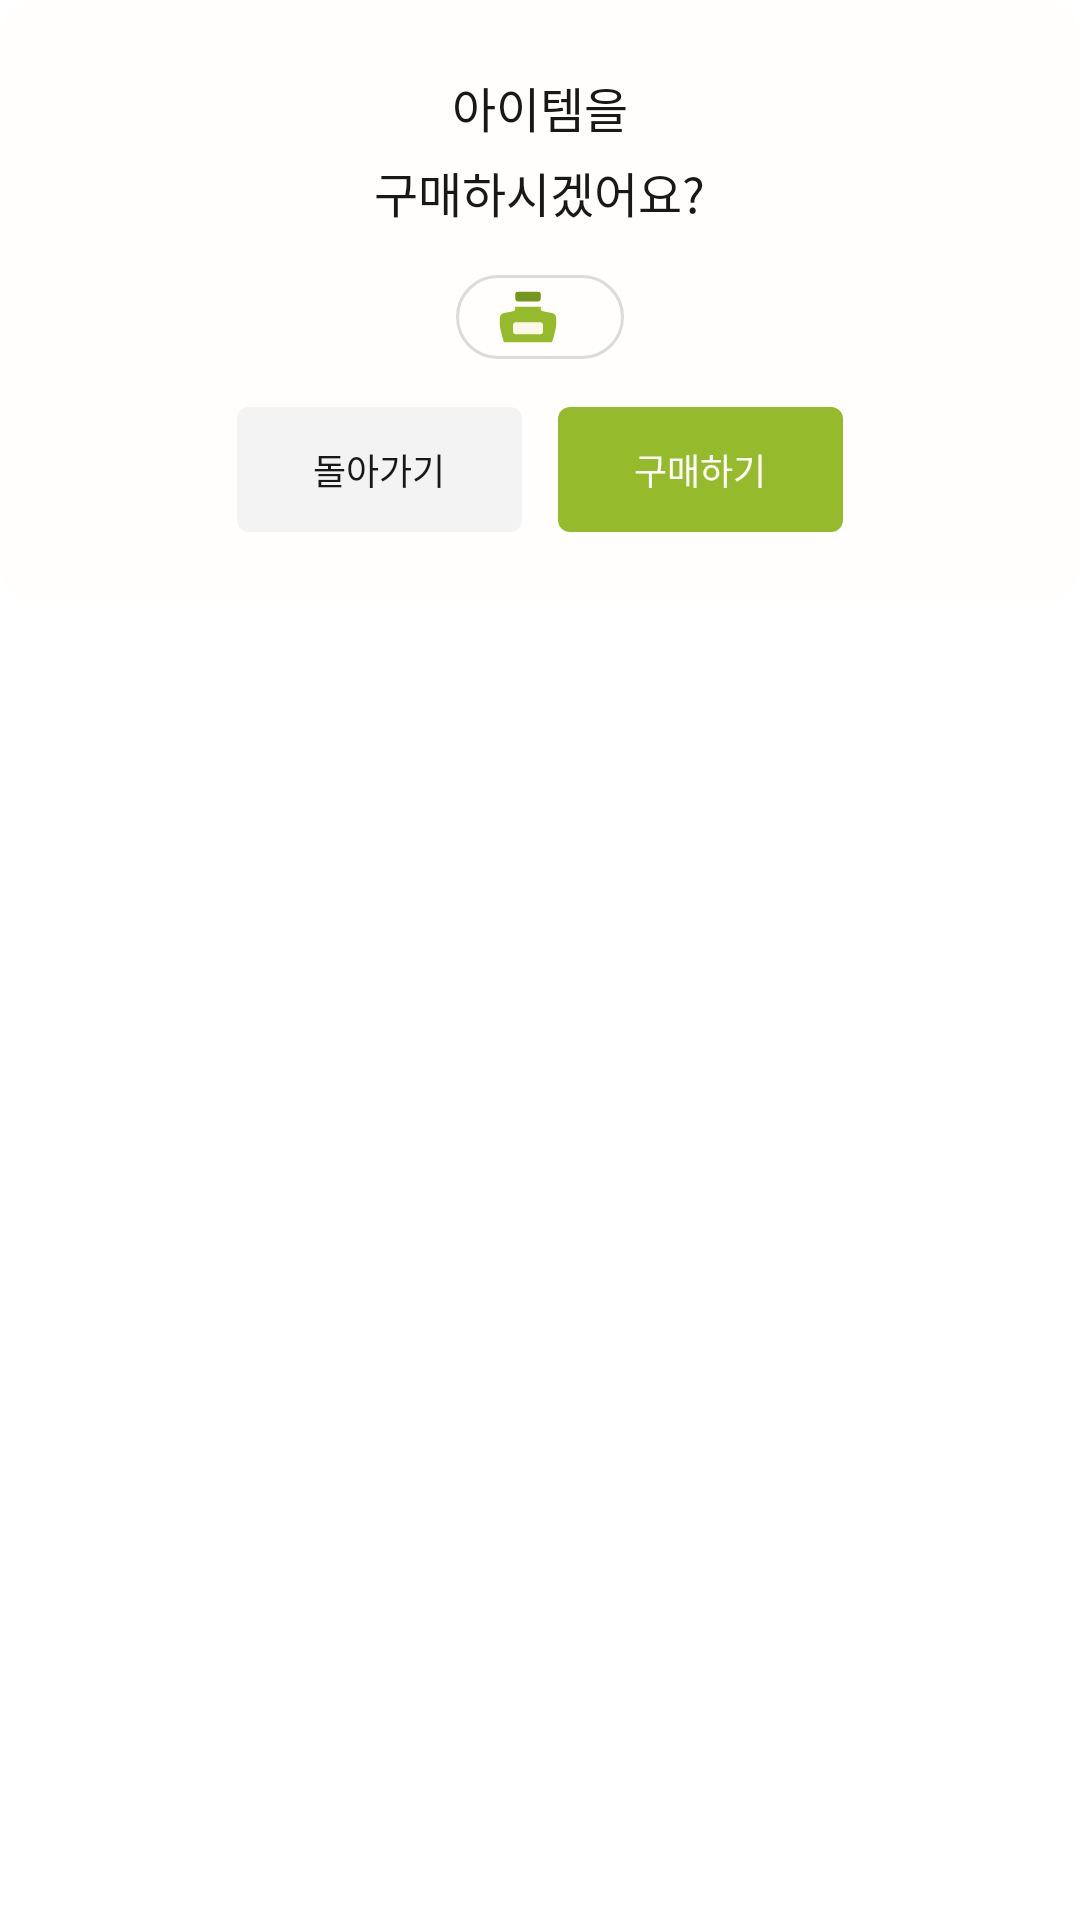

Point at icon controls on the screen. Image size 1080x1920, points as (x=x, y=y).
ink: (x=528, y=317)
